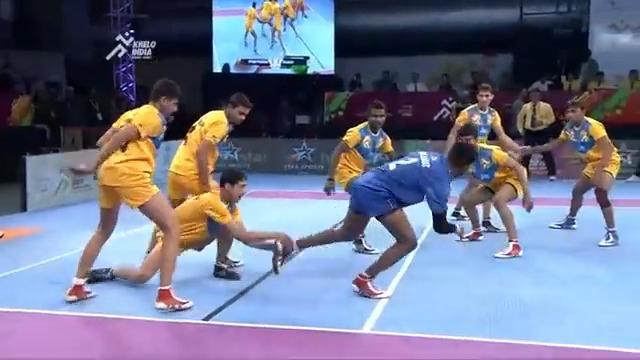Player: (63, 76, 196, 313), (144, 90, 254, 280), (516, 95, 623, 248), (322, 100, 397, 256), (459, 129, 527, 232), (441, 78, 488, 131)
Raider: (269, 136, 477, 301)
referee: (516, 87, 558, 181)
